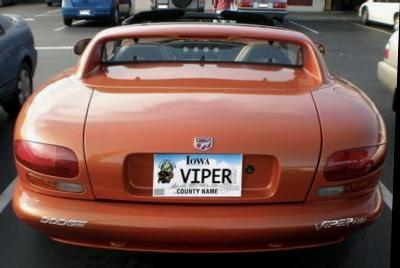License_Plate: (152, 152, 242, 196)
